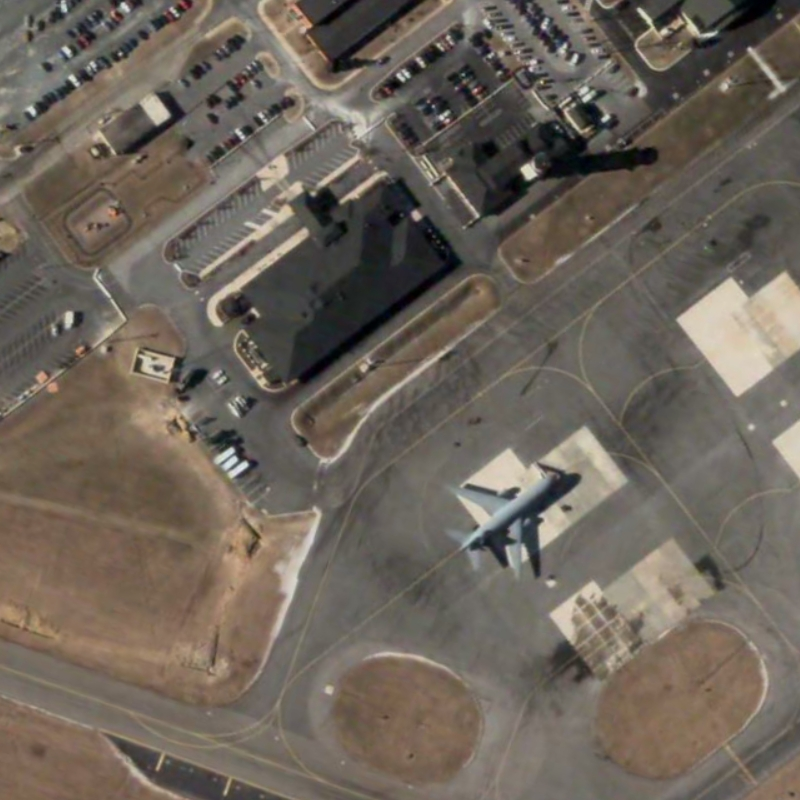A18: (437, 461, 565, 585)
